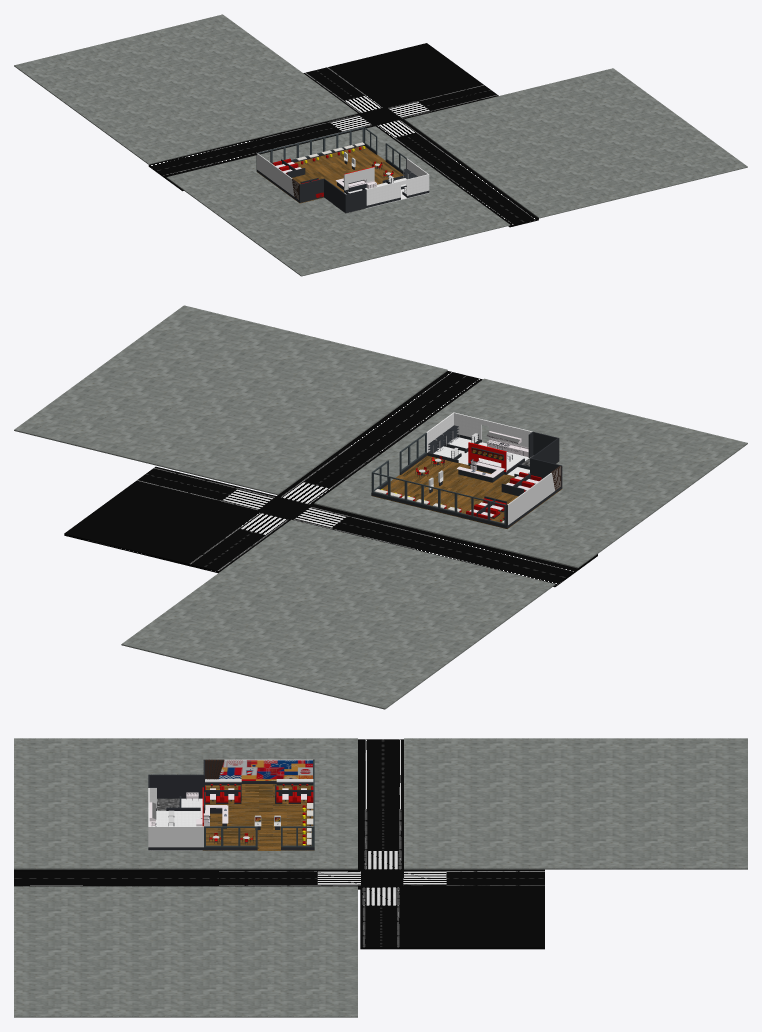
Rendered from Fast Food Revamp.fbx.
3 views of the same model, one above another, from view 1: azimuth 30°, elevation 25°; view 2: azimuth 150°, elevation 25°; view 3: azimuth 270°, elevation 25° (orthographic). The views are drawn at different scales.
Visible parts, largest first — view 1: Cube.038, Cube.037, Cube.036, Cube.035, Cube.034, Cube.015, Plane.002, Cube.040; view 2: Cube.038, Cube.037, Cube.036, Cube.035, Cube.015, Cube.034, Plane.002, Cube.040; view 3: Cube.037, Cube.038, Cube.036, Cube.035, Cube.015, Cube.034, Plane.002.
Boxes of the visible parts, x1=… form: Cube.038: x1=14, y1=14, x2=357, y2=164; Cube.037: x1=404, y1=68, x2=747, y2=218; Cube.036: x1=166, y1=126, x2=510, y2=276; Cube.035: x1=148, y1=43, x2=538, y2=227; Cube.034: x1=256, y1=153, x2=429, y2=210; Cube.015: x1=257, y1=145, x2=428, y2=213; Plane.002: x1=256, y1=144, x2=429, y2=212; Cube.040: x1=258, y1=127, x2=364, y2=163; Cube.038: x1=121, y1=519, x2=555, y2=709; Cube.037: x1=14, y1=305, x2=447, y2=495; Cube.036: x1=314, y1=378, x2=747, y2=568; Cube.035: x1=64, y1=371, x2=597, y2=587; Cube.015: x1=371, y1=437, x2=561, y2=529; Cube.034: x1=426, y1=412, x2=562, y2=525; Plane.002: x1=371, y1=434, x2=562, y2=528; Cube.040: x1=371, y1=472, x2=506, y2=525; Cube.037: x1=14, y1=886, x2=357, y2=1017; Cube.038: x1=404, y1=738, x2=747, y2=869; Cube.036: x1=14, y1=738, x2=357, y2=869; Cube.035: x1=14, y1=739, x2=544, y2=949; Cube.015: x1=148, y1=784, x2=314, y2=850; Cube.034: x1=148, y1=759, x2=314, y2=847; Plane.002: x1=148, y1=781, x2=314, y2=850.
Bounding box in the file's own units: 10684 × 487 × 11907.
Materials: 239 (23 with a texture image).
